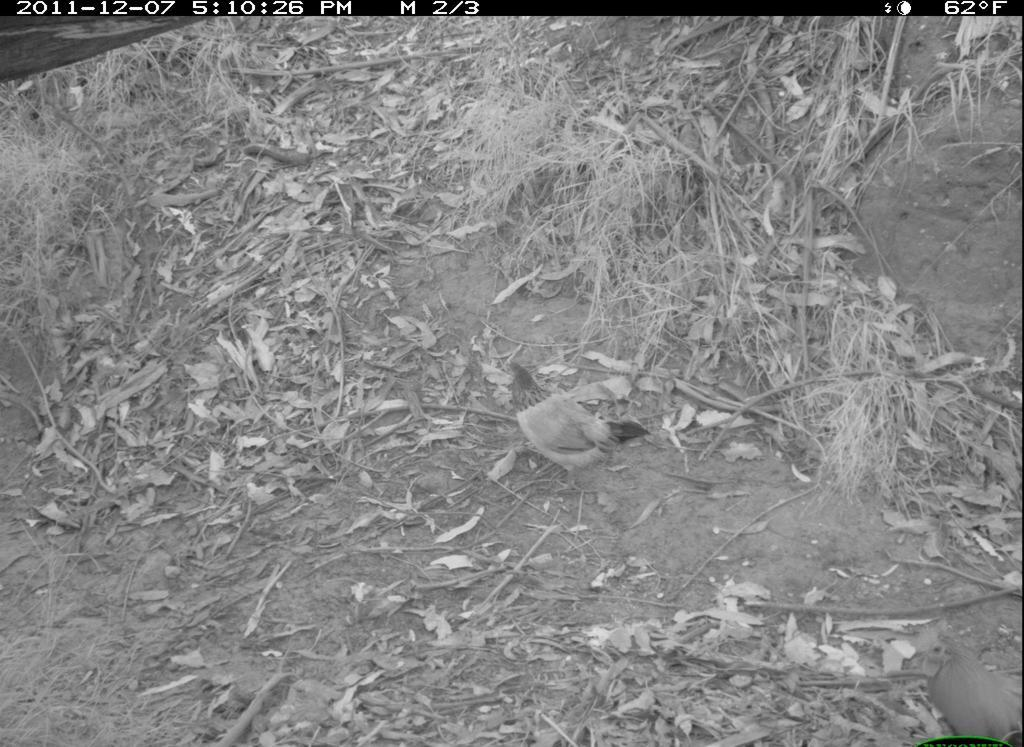bird: (487, 358, 649, 497)
